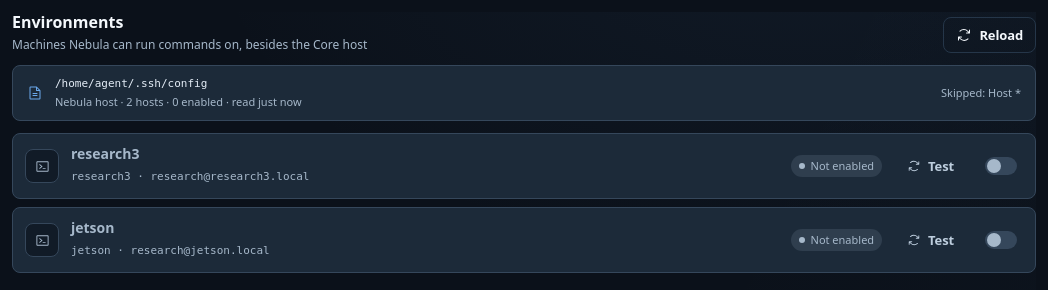
Scenario: environment settings › keeps every row in place when the first host is enabled
Click the switch named "Use research3 from Nebula".
click(1001, 166)  # box [985,157,1017,175]
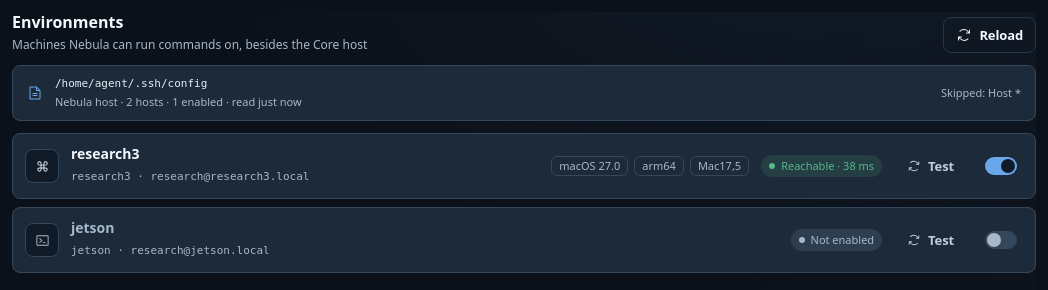
Expected: the number of list items is 2, [12,133,1036,199]; [12,207,1036,273]
Result: the text "Reachable · 38 ms" is shown at [761,155,882,177]
